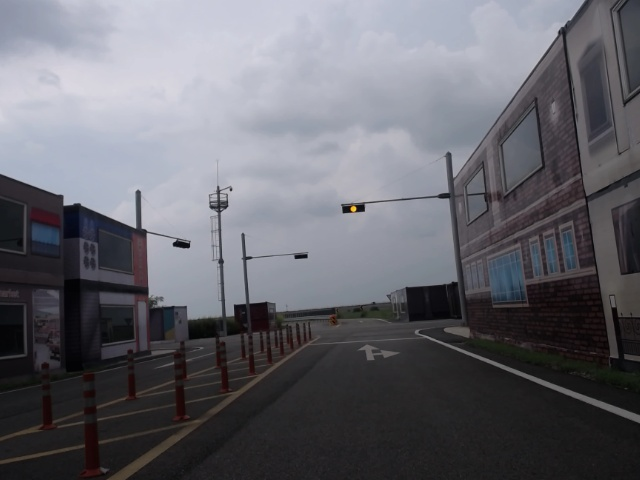orange_3: (342, 203, 365, 213)
